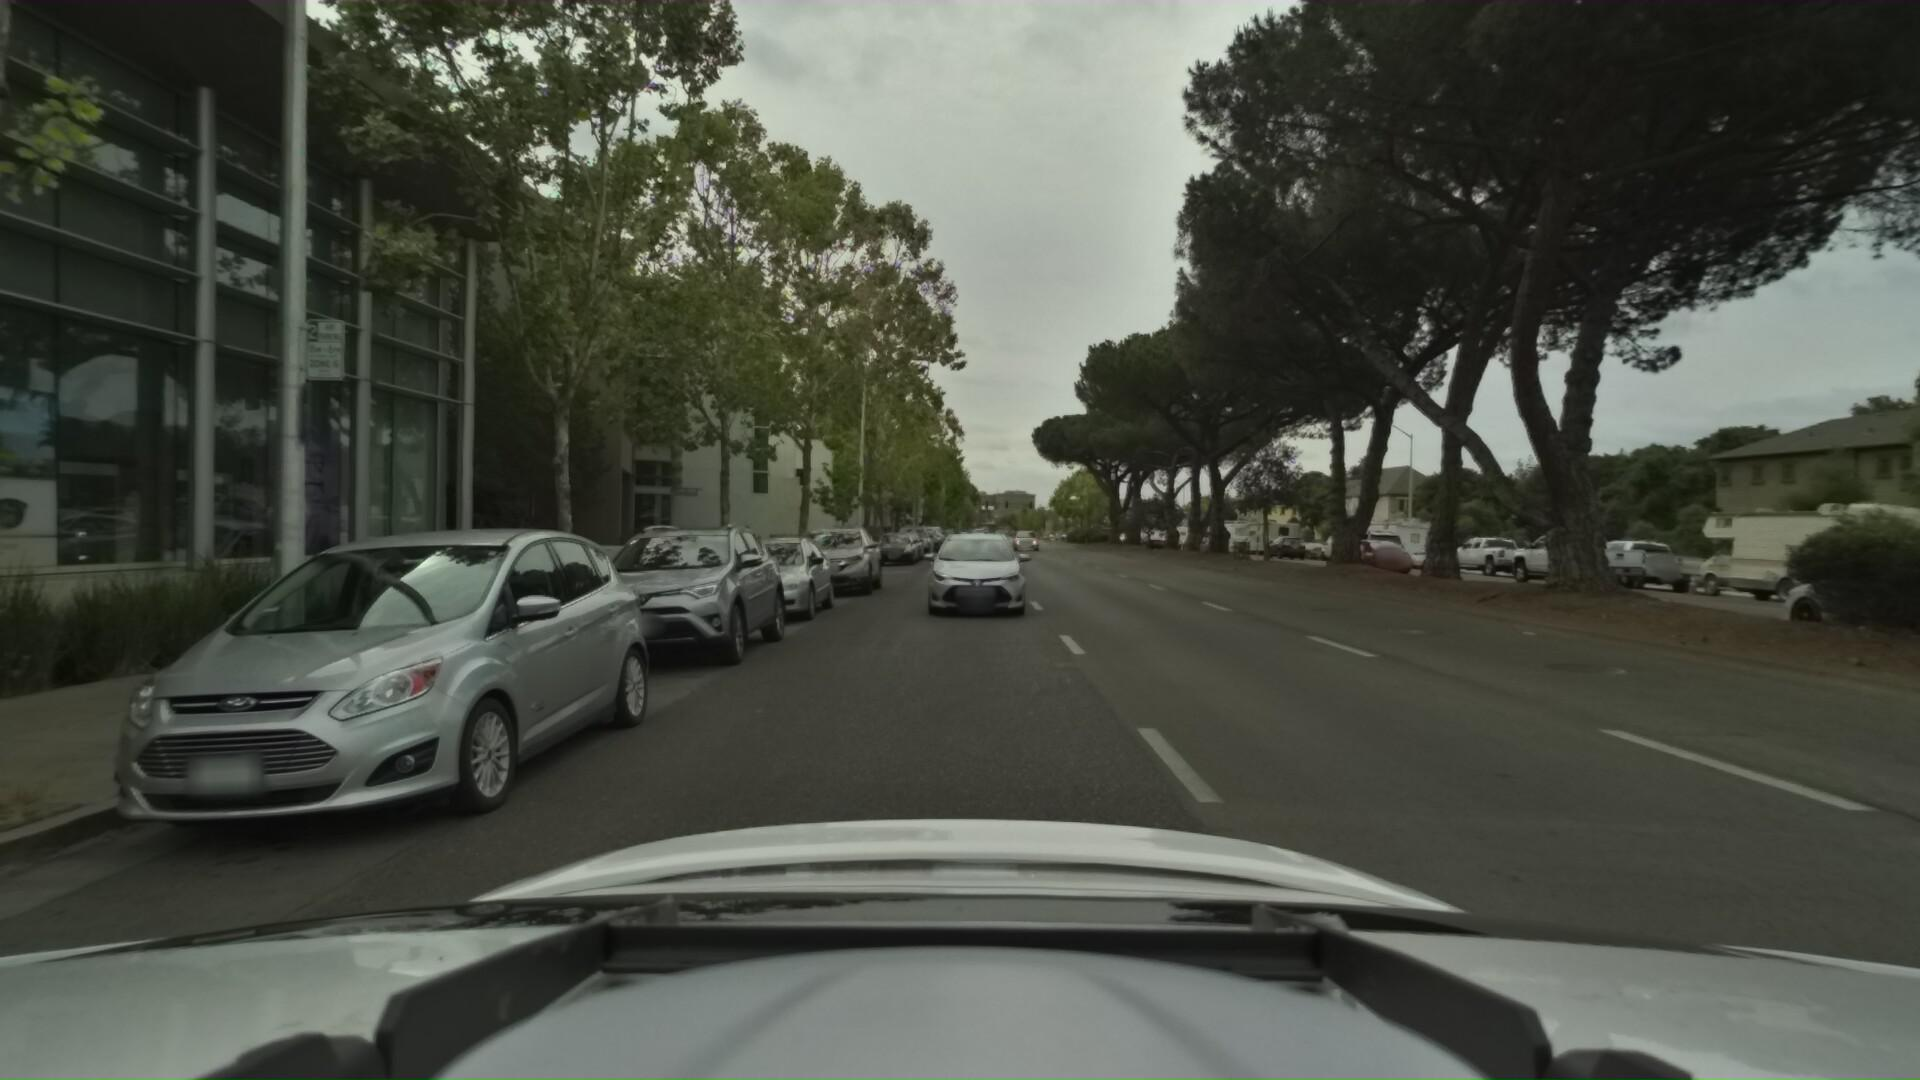car: (113, 527, 687, 877), (578, 518, 796, 682), (1717, 545, 1920, 640), (702, 529, 843, 628), (915, 522, 1034, 626), (1551, 535, 1702, 595), (1486, 524, 1631, 585), (790, 524, 884, 600), (1433, 531, 1534, 578), (1315, 530, 1398, 575), (1317, 524, 1398, 567), (1393, 535, 1452, 570), (872, 529, 916, 567), (893, 522, 931, 559), (1257, 531, 1300, 558), (1286, 538, 1331, 560), (909, 525, 942, 554), (1010, 524, 1038, 553)
other_vehicle: (1667, 498, 1920, 618), (1346, 516, 1433, 568)
